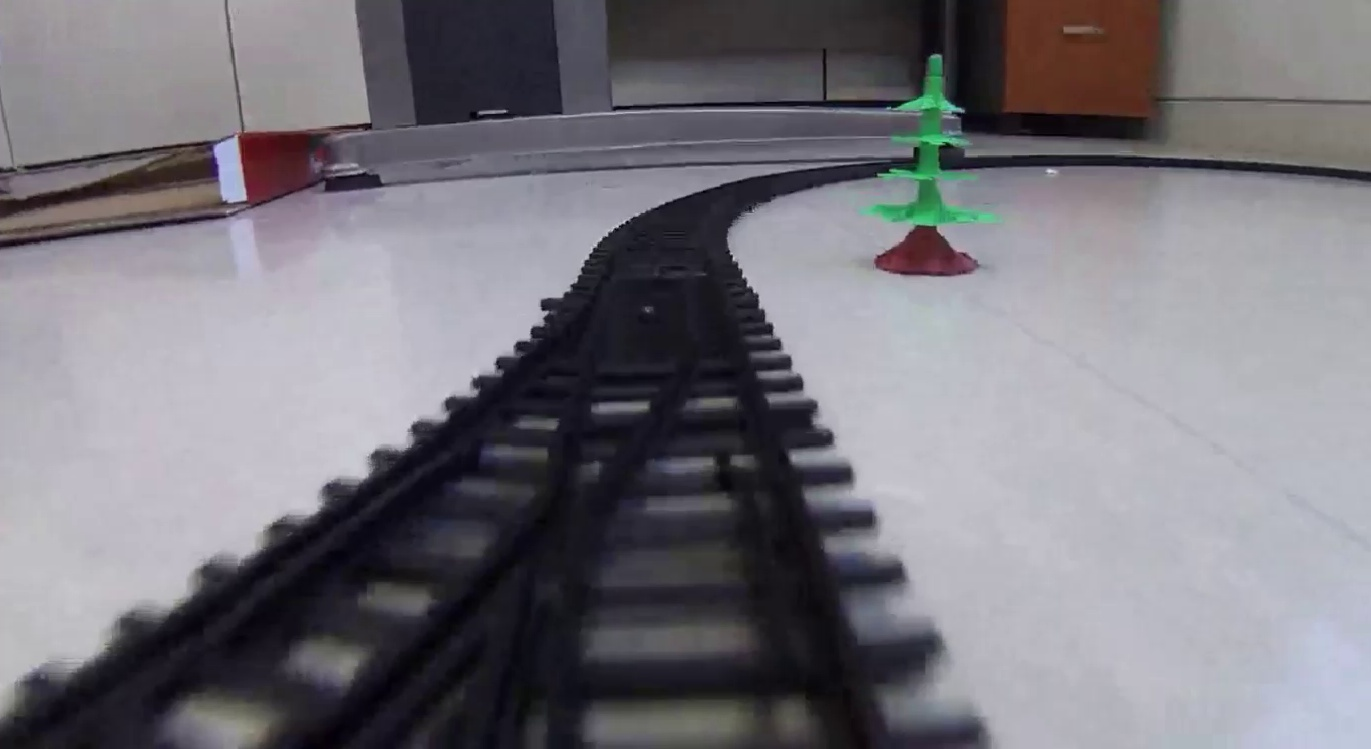tree: (864, 54, 1003, 279)
